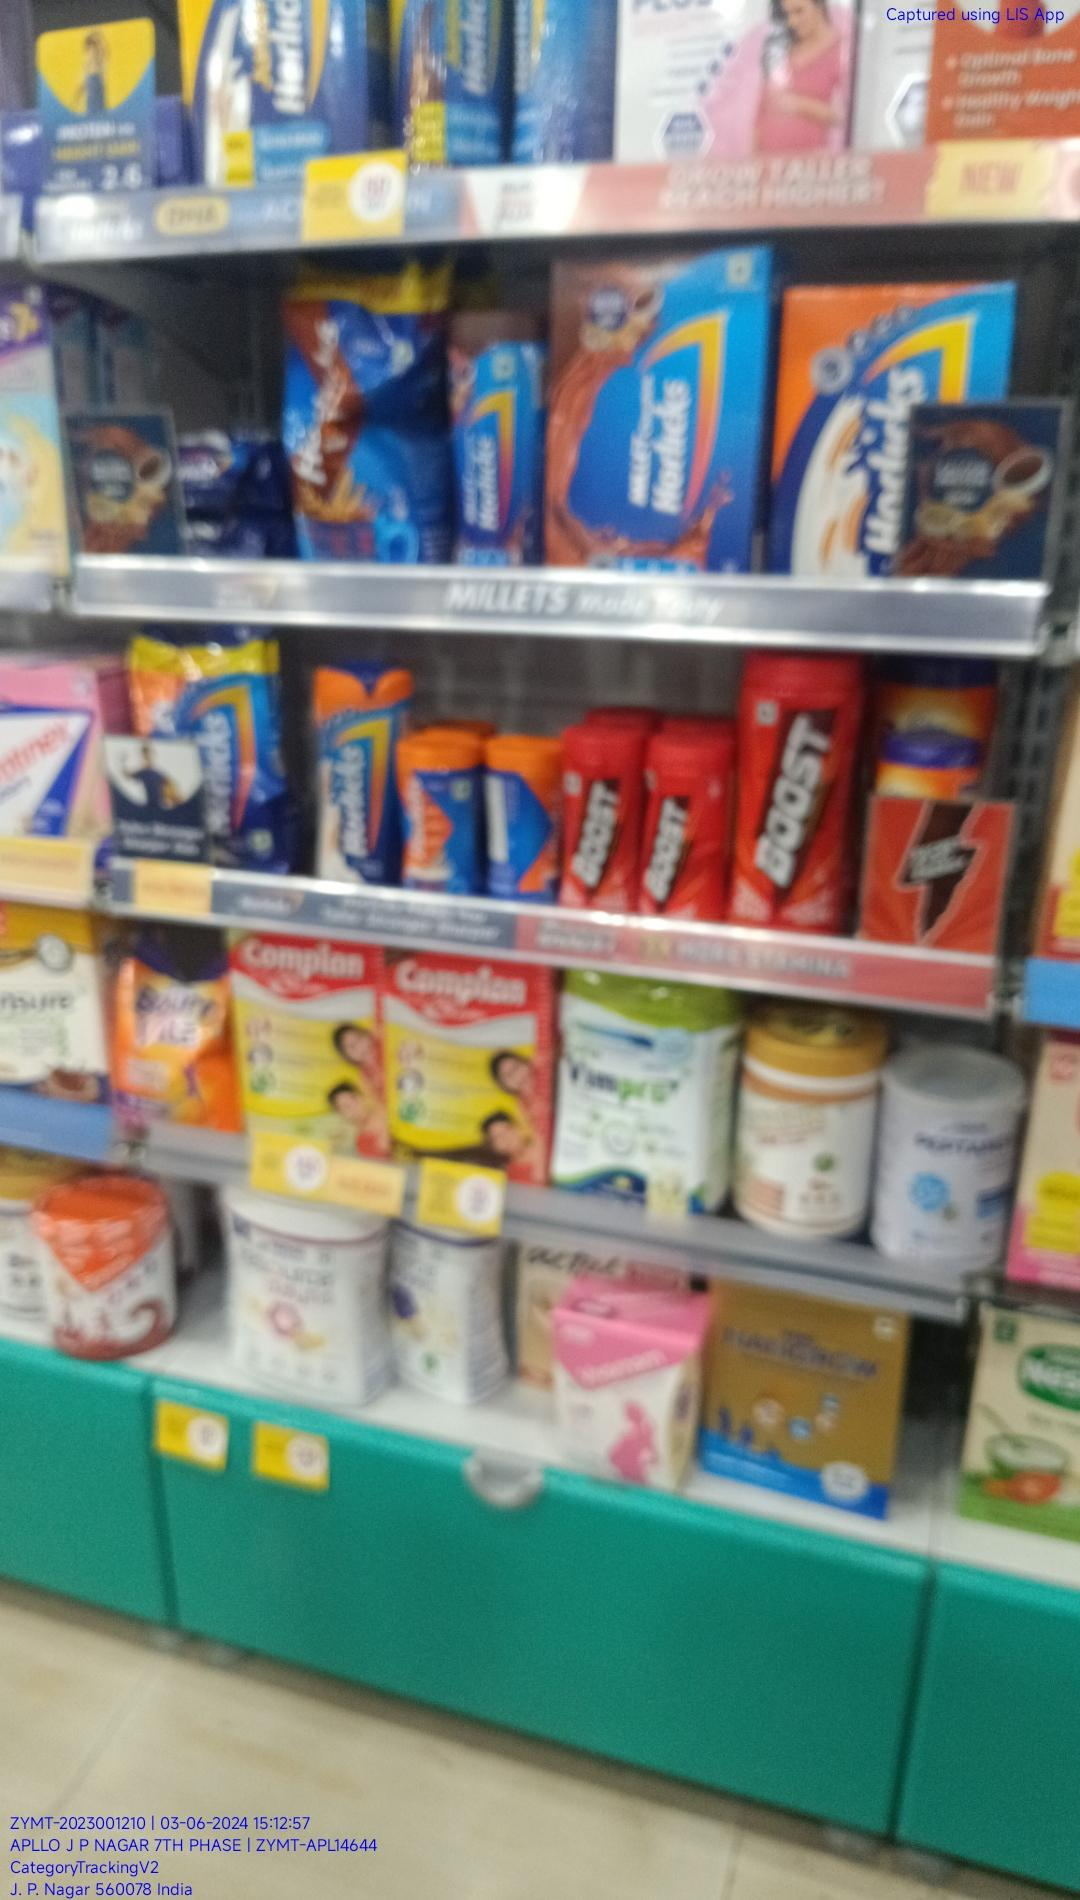COMPLAN_CHOCOLATE_200_GMS_PACK: (389, 949, 548, 1177)
HORLICK_CLASSIC_MALT_200_G_JAR: (318, 662, 398, 881)
